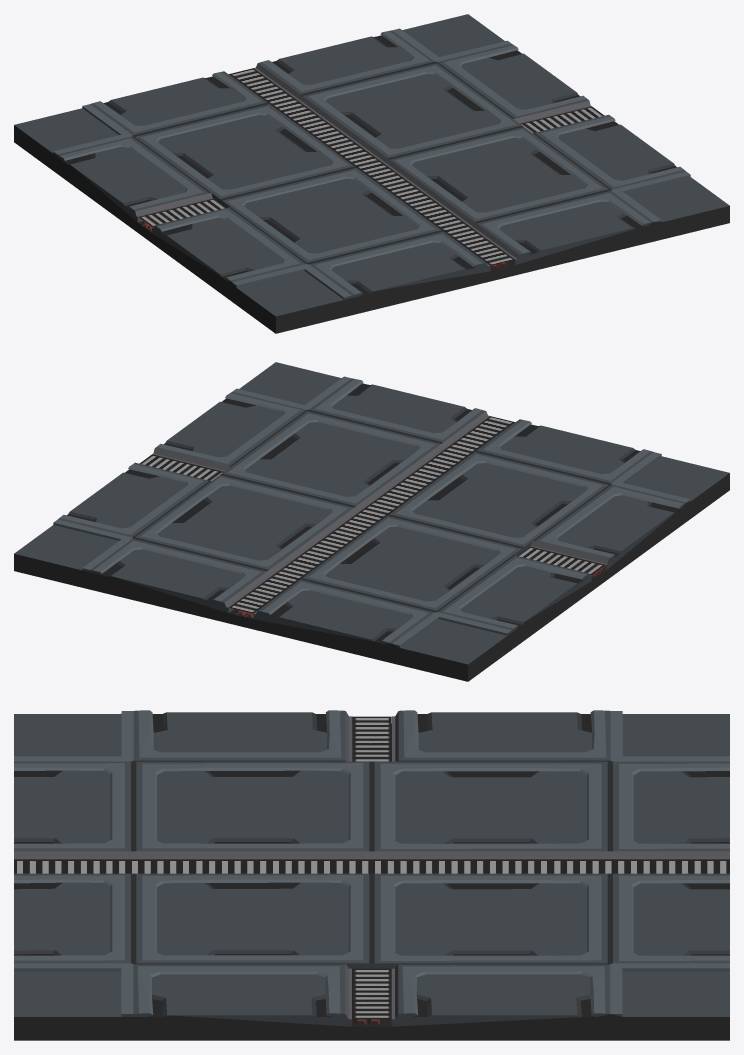
Rendered from SM_Bld_Floor_05.fbx.
3 renders of one model, top to bottom at view 1: azimuth 30°, elevation 25°; view 2: azimuth 150°, elevation 25°; view 3: azimuth 270°, elevation 25°, orthographic. The views are drawn at different scales.
Visible parts, largest first — view 1: SM_Bld_Floor_05; view 2: SM_Bld_Floor_05; view 3: SM_Bld_Floor_05.
Part boxes in pixels (x1,y1,x2,y2): SM_Bld_Floor_05: (14, 14, 729, 333); SM_Bld_Floor_05: (14, 362, 729, 681); SM_Bld_Floor_05: (14, 710, 729, 1040).
Bounding box in the file's own units: 501 × 21.2 × 500.
Materials: 1 (1 with a texture image).
